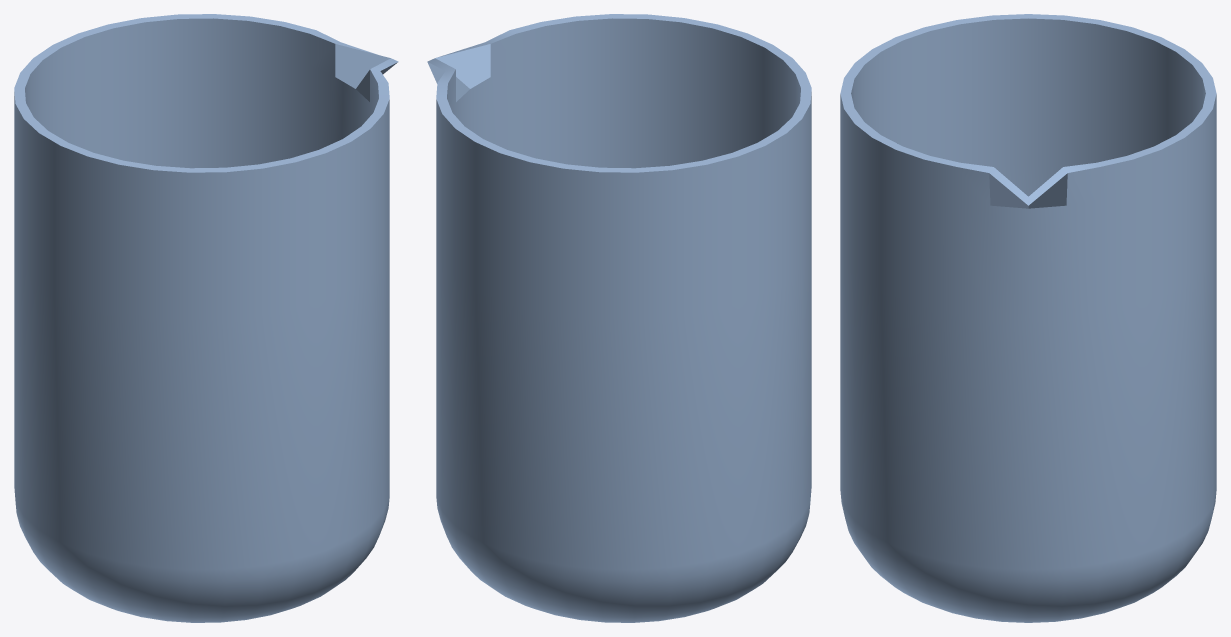
File: Beaker.fbx
3 views of the same model, side by side, from view 1: azimuth 30°, elevation 25°; view 2: azimuth 150°, elevation 25°; view 3: azimuth 270°, elevation 25° (orthographic).
Parts seen in each view (by area): view 1: Circle; view 2: Circle; view 3: Circle.
Part boxes in pixels (box(x1,y1,x2,y2)): Circle: box(14, 14, 398, 622); Circle: box(427, 14, 811, 622); Circle: box(840, 14, 1216, 622).
Size of the model in its own units: 234 by 299 by 212.
